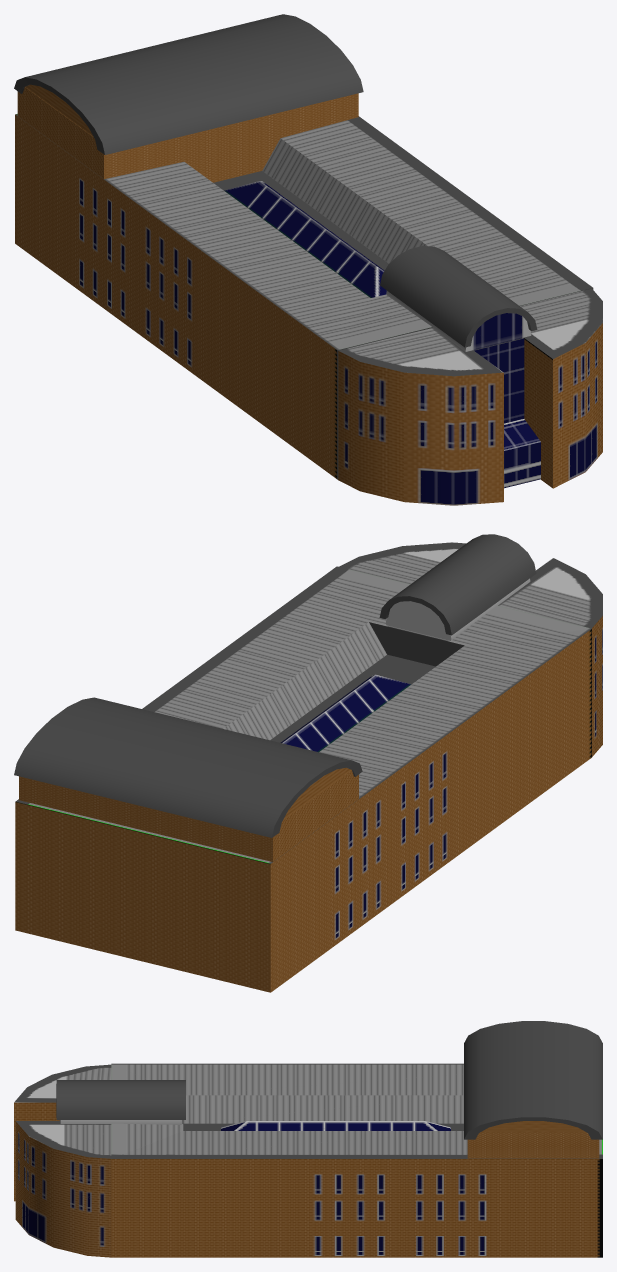
The model's file is Binks Model.FBX.
The picture shows the model from 3 angles, top to bottom: view 1: azimuth 30°, elevation 25°; view 2: azimuth 150°, elevation 25°; view 3: azimuth 270°, elevation 25°; orthographic projection. The views are drawn at different scales.
Parts seen in each view (by area): view 1: Box001, Cylinder006, Cylinder005, Cylinder004, Box004, Cylinder003, Box005, Box003, Box002, Cylinder002, Cylinder007; view 2: Box001, Cylinder006, Box004, Cylinder003, Cylinder005, Box005, Cylinder004, Cylinder002, Cylinder007; view 3: Box001, Cylinder006, Cylinder004, Cylinder003, Box004, Cylinder005, Box005, Cylinder007, Cylinder002.
Part boxes in pixels (bbox=[...]): Box001: bbox=[15, 114, 593, 479]; Cylinder006: bbox=[14, 14, 363, 154]; Cylinder005: bbox=[337, 328, 503, 505]; Cylinder004: bbox=[520, 288, 602, 488]; Box004: bbox=[17, 87, 358, 182]; Cylinder003: bbox=[380, 246, 537, 347]; Box005: bbox=[224, 181, 386, 297]; Box003: bbox=[473, 338, 524, 423]; Box002: bbox=[504, 419, 540, 488]; Cylinder002: bbox=[386, 290, 531, 351]; Cylinder007: bbox=[25, 84, 93, 136]; Box001: bbox=[15, 566, 591, 992]; Cylinder006: bbox=[14, 697, 362, 837]; Box004: bbox=[19, 770, 358, 861]; Cylinder003: bbox=[379, 534, 536, 635]; Cylinder005: bbox=[498, 558, 602, 756]; Box005: bbox=[280, 674, 410, 752]; Cylinder004: bbox=[339, 542, 466, 584]; Cylinder002: bbox=[386, 578, 530, 640]; Cylinder007: bbox=[283, 767, 351, 819]; Box001: bbox=[111, 1063, 602, 1257]; Cylinder006: bbox=[464, 1021, 602, 1139]; Cylinder004: bbox=[15, 1121, 111, 1257]; Cylinder003: bbox=[56, 1080, 185, 1119]; Box004: bbox=[467, 1132, 599, 1158]; Cylinder005: bbox=[14, 1064, 111, 1201]; Box005: bbox=[221, 1121, 450, 1130]; Cylinder007: bbox=[481, 1121, 585, 1132]; Cylinder002: bbox=[60, 1120, 181, 1124].
Size of the model in its own units: 57.85 by 39.6 by 149.
1 material, 1 textured.
